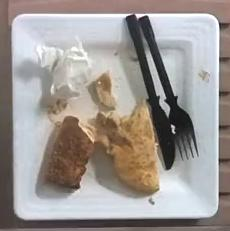fish: (112, 105, 159, 193)
pizza_crust: (45, 116, 94, 188)
